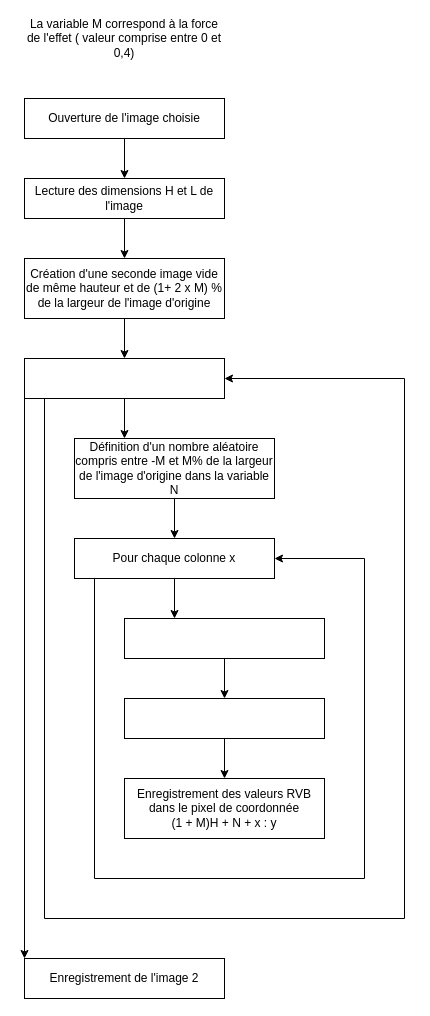
This 430x1016 diagram has some shape labels left out. The box of each missing label's shape, as (x1, y1, x2, y2) in pixels:
Pour chaque ligne y: (24, 358, 224, 398)
Récupération des composantes RVB du pixel dans les variables r, v et b: (124, 698, 324, 738)
Récupération du pixel x : y: (124, 618, 324, 658)
